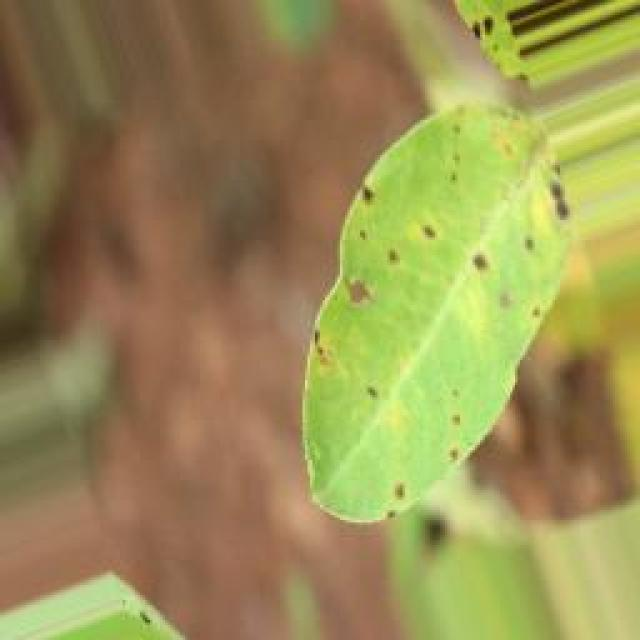Yellowish: (236, 87, 578, 535)
